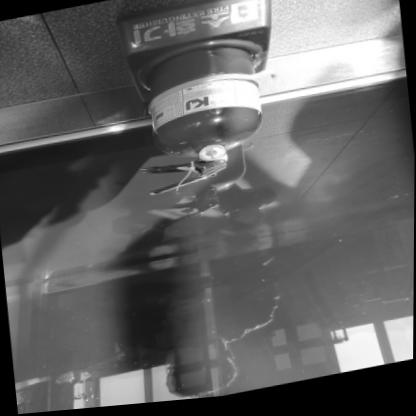FE: (113, 0, 287, 206)
